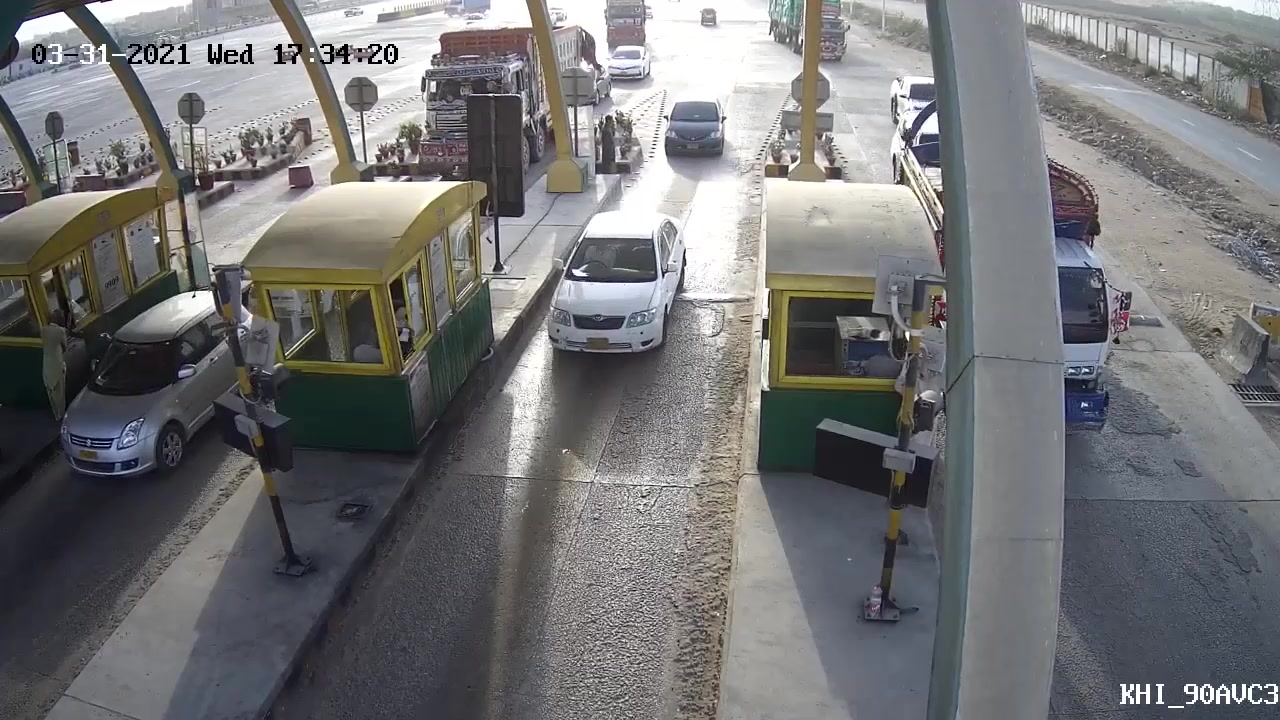F1: (527, 205, 690, 377)
